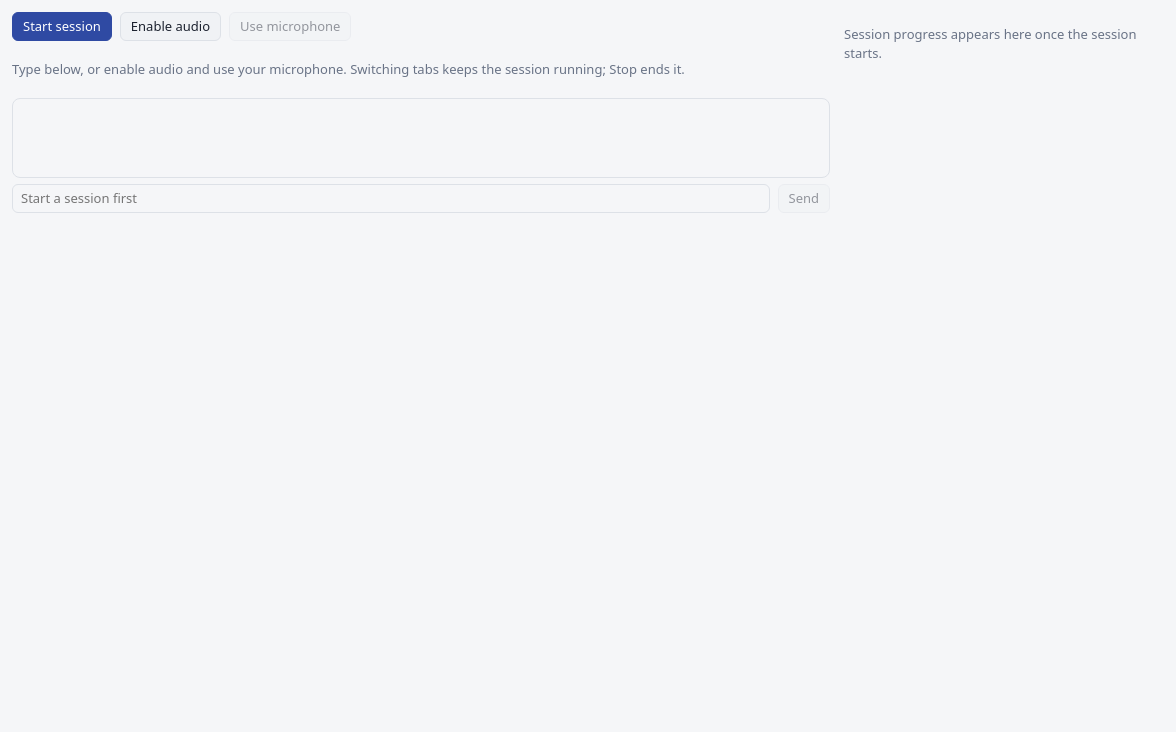
it: live task commands › sends trusted commands on the current socket and disables them for an edited document
Click the button "Start session" at (62, 26), box [12,12,112,41]
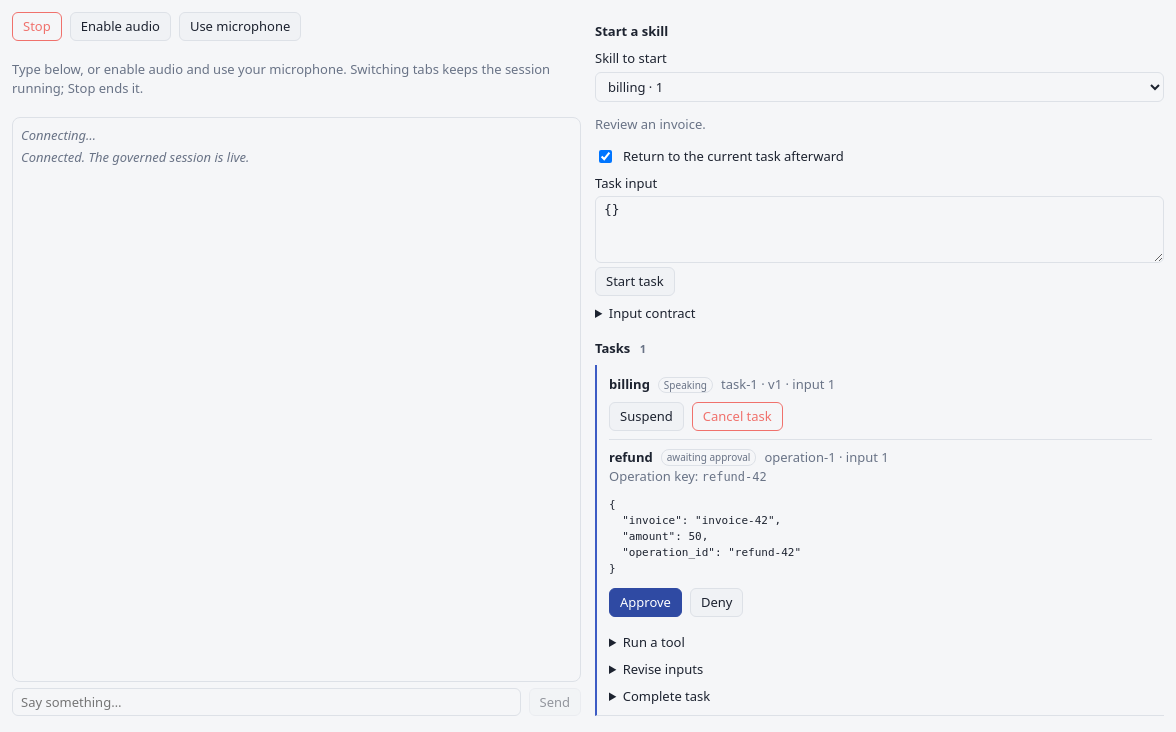
Click the button "Approve" at (646, 602), box [609,588,682,617]
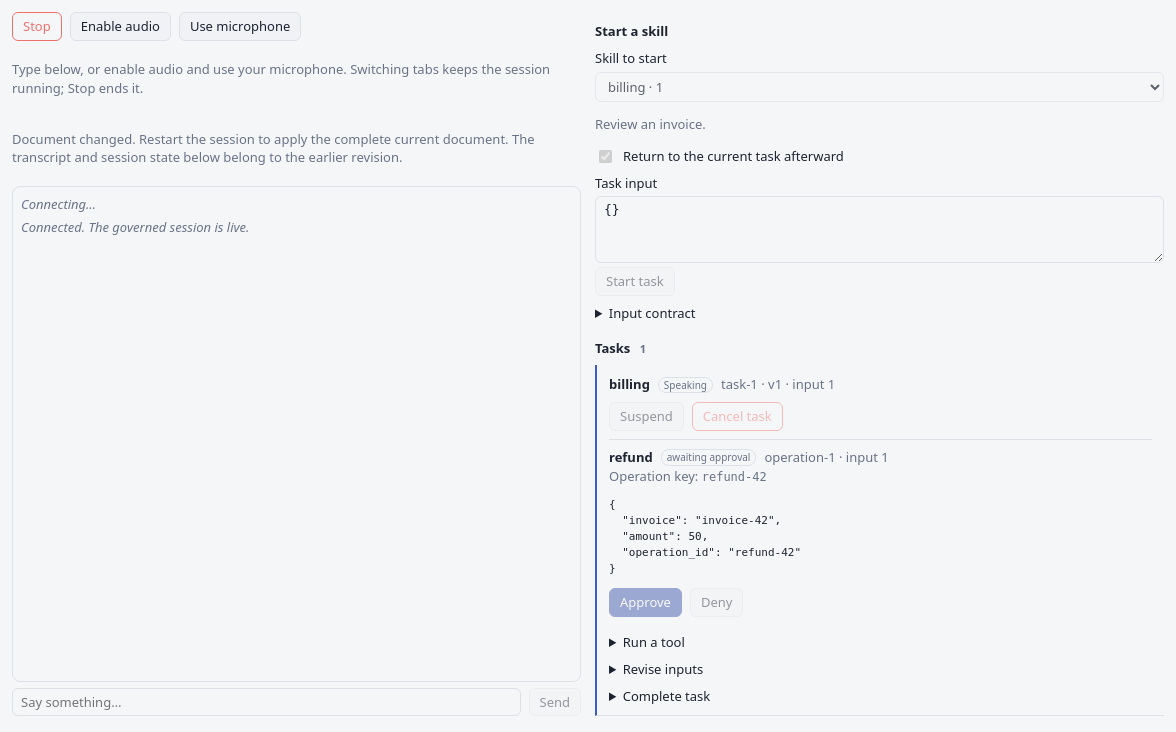
Check: the button "Approve" is disabled, box [609,588,682,617]
Check: the text "Restart the session" is shown, box [12,130,534,166]
